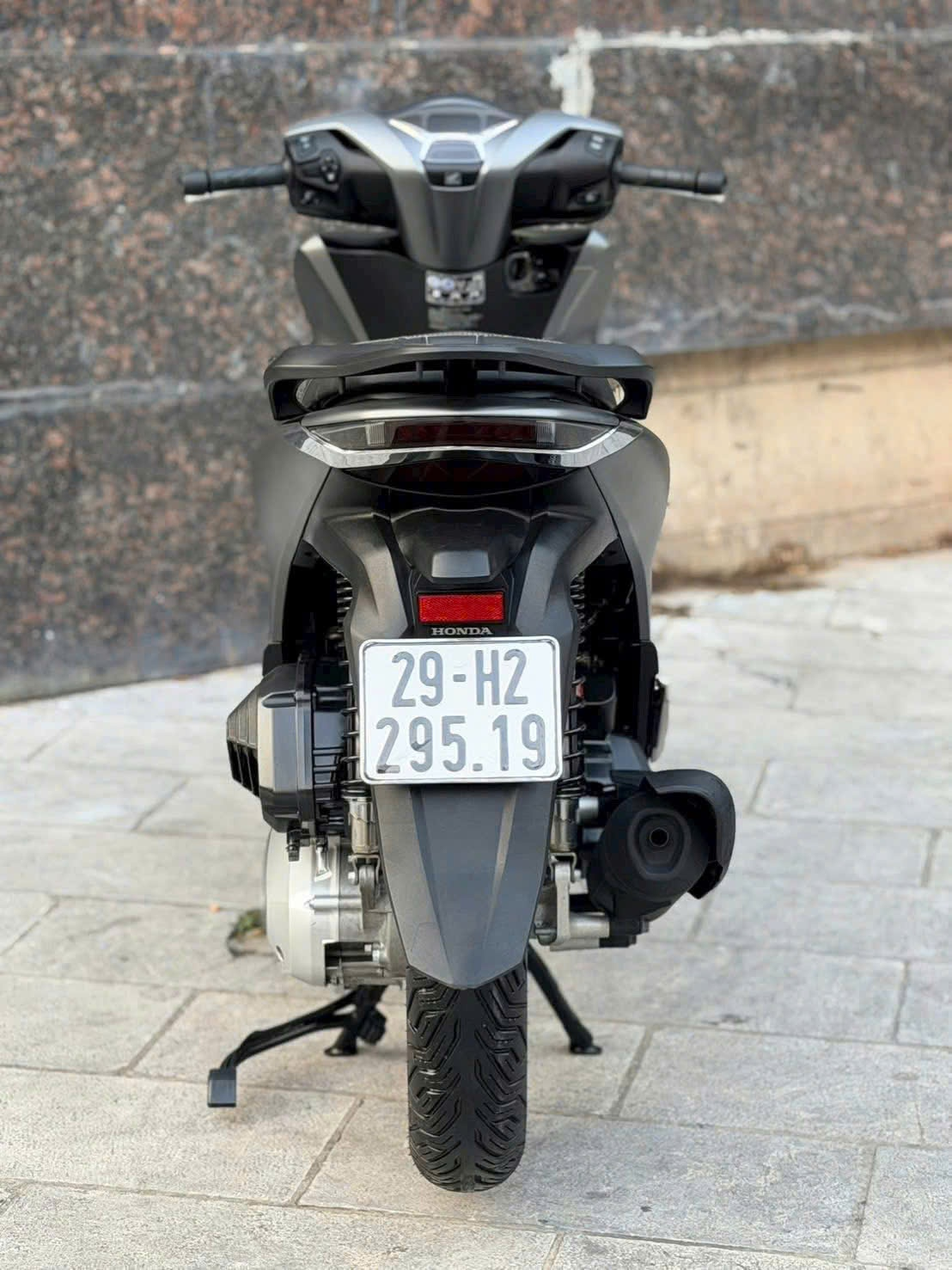Bien-so: (353, 582, 567, 754)
